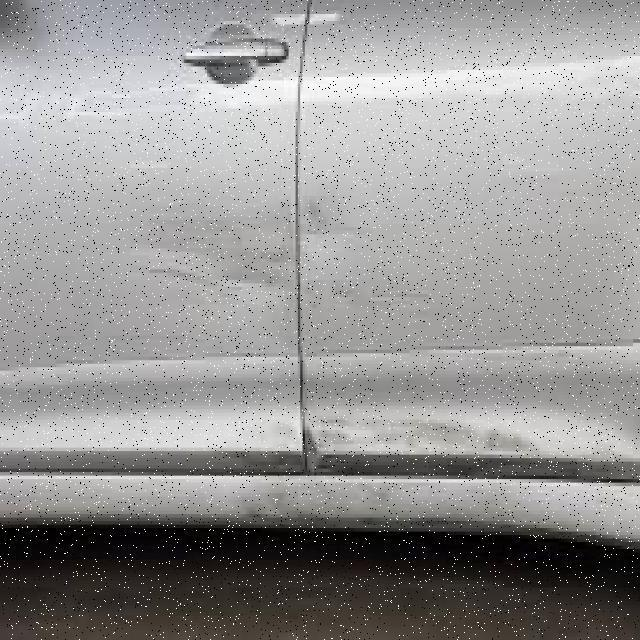RunningBoard-Dent: (4, 440, 430, 536)
doorouter-dent: (296, 3, 638, 476), (4, 0, 300, 472)
